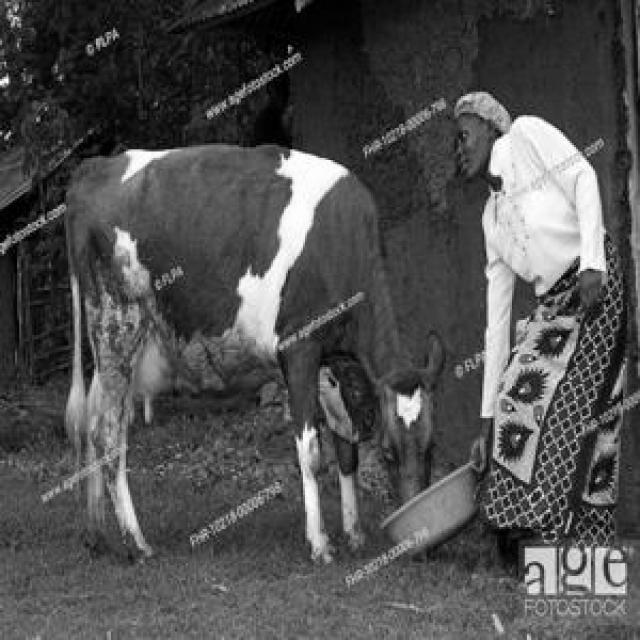cow: (65, 145, 444, 564)
